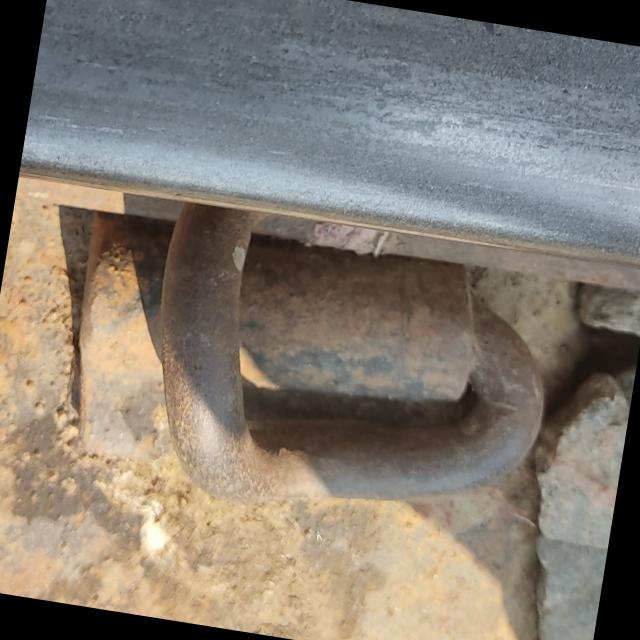track_bolt: (124, 200, 571, 554)
